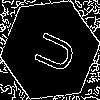U: (25, 25, 78, 77)
